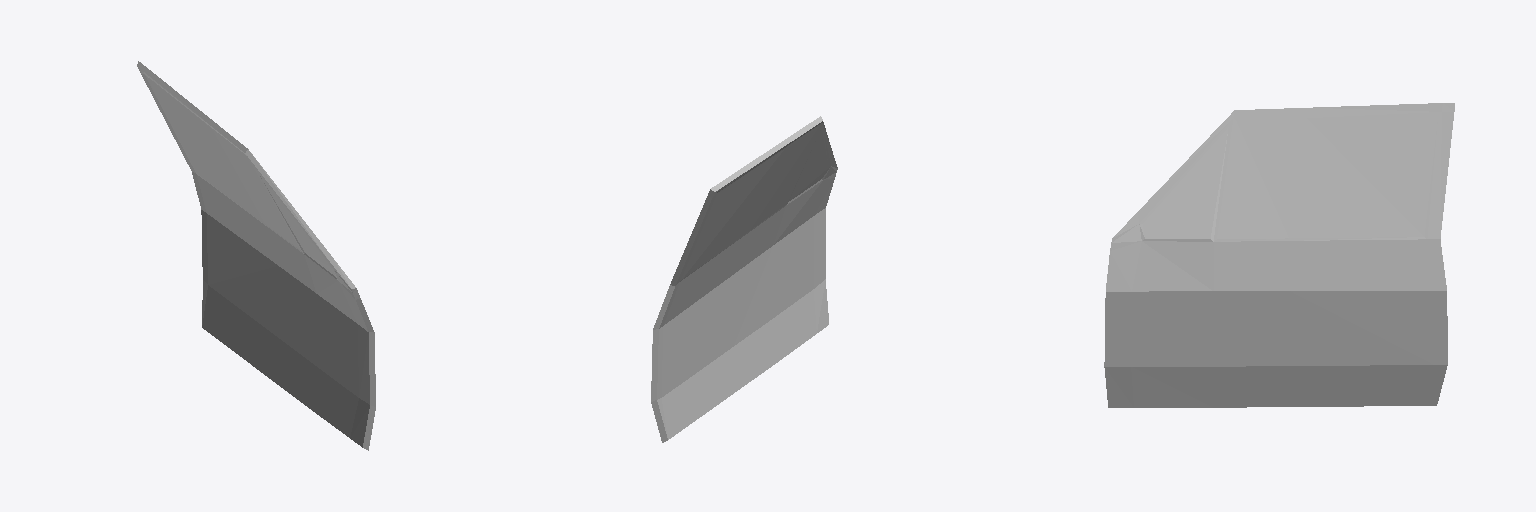
The model's file is cricket_door_FL.obj.
The picture shows the model from 3 angles: view 1: azimuth 30°, elevation 25°; view 2: azimuth 150°, elevation 25°; view 3: azimuth 270°, elevation 25°; orthographic projection.
Parts seen in each view (by area): view 1: Door_FL; view 2: Door_FL; view 3: Door_FL.
Part boxes in pixels (x1,y1,x2,y2): Door_FL: (137,61,375,450); Door_FL: (651,116,837,442); Door_FL: (1104,103,1454,407).
Size of the model in its own units: 0.2591 by 1.04 by 1.19.